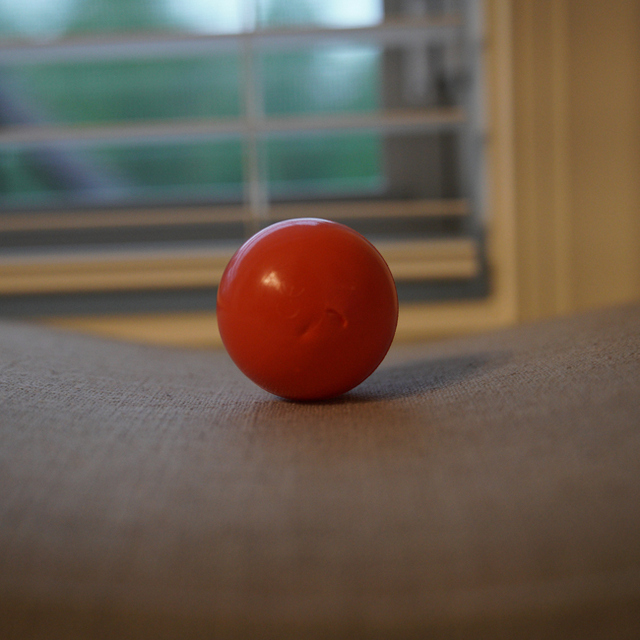Ball: (220, 221, 400, 398)
